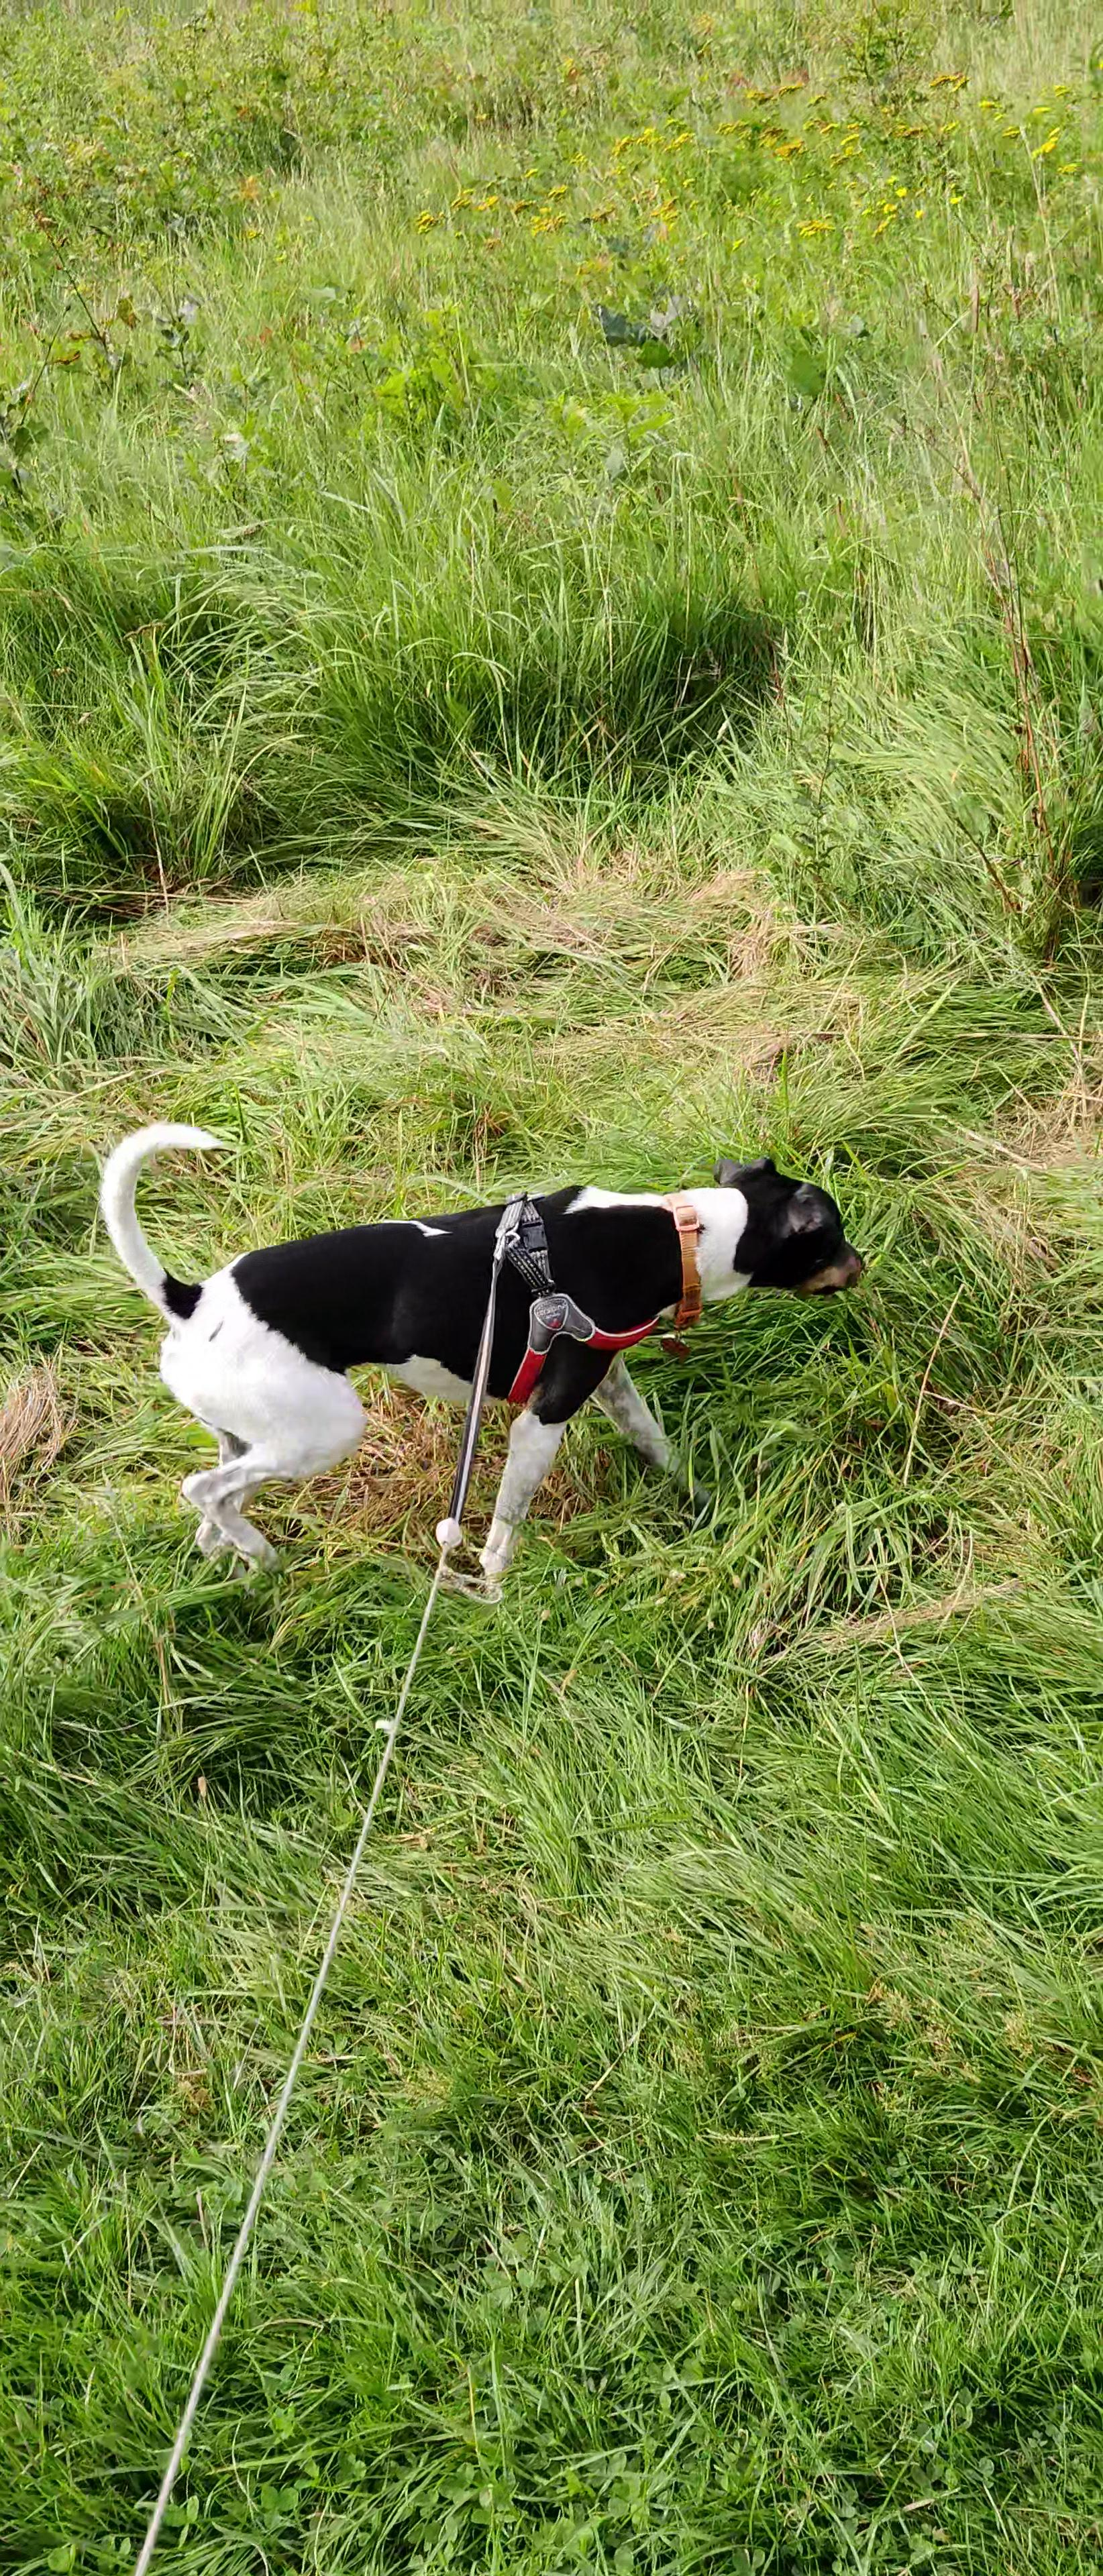Dog: (97, 1117, 873, 1603)
